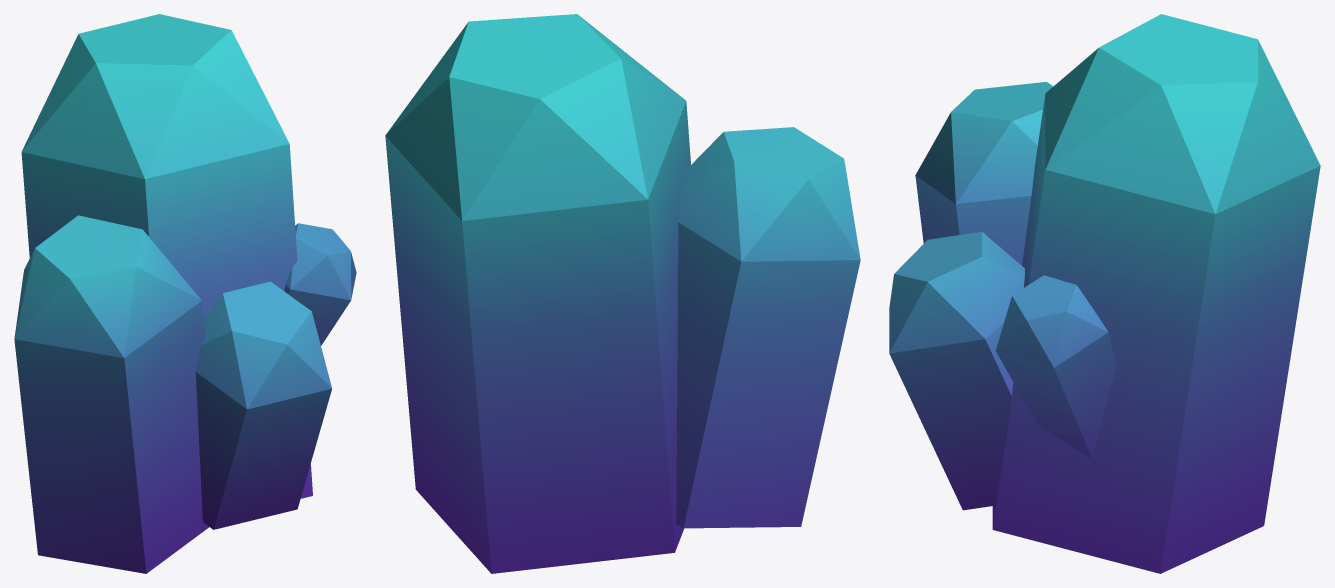
File: Gem_Sephire.fbx
The picture shows the model from 3 angles, left to right: view 1: azimuth 30°, elevation 25°; view 2: azimuth 150°, elevation 25°; view 3: azimuth 270°, elevation 25°; orthographic projection. The views are drawn at different scales.
Visible parts, largest first — view 1: Gem_Sephire; view 2: Gem_Sephire; view 3: Gem_Sephire.
Part boxes in pixels (<box>): Gem_Sephire: <box>14,14,356,573</box>; Gem_Sephire: <box>385,14,860,573</box>; Gem_Sephire: <box>889,14,1320,573</box>.
Size of the model in its own units: 318 by 375 by 306.
